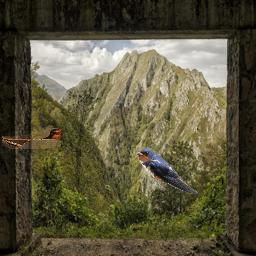Swallow: (136, 147, 198, 194), (2, 128, 61, 149)
